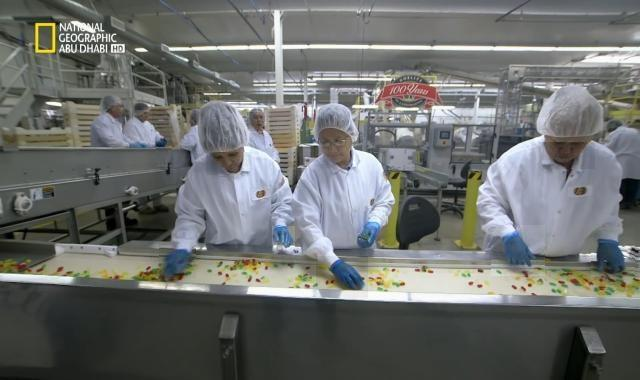apron: (491, 226, 545, 277), (591, 229, 635, 290), (316, 256, 368, 298), (348, 212, 388, 250), (159, 243, 196, 279), (272, 227, 296, 252), (123, 130, 147, 152), (156, 128, 172, 152)
gloves: (535, 85, 603, 142), (196, 102, 250, 154), (312, 102, 358, 146), (98, 93, 122, 122), (248, 106, 270, 133), (132, 100, 150, 120), (607, 119, 626, 132)
no_hairnet: (543, 143, 596, 170), (207, 153, 253, 176), (318, 137, 356, 164), (247, 113, 265, 132), (107, 104, 124, 121), (134, 110, 153, 125)
